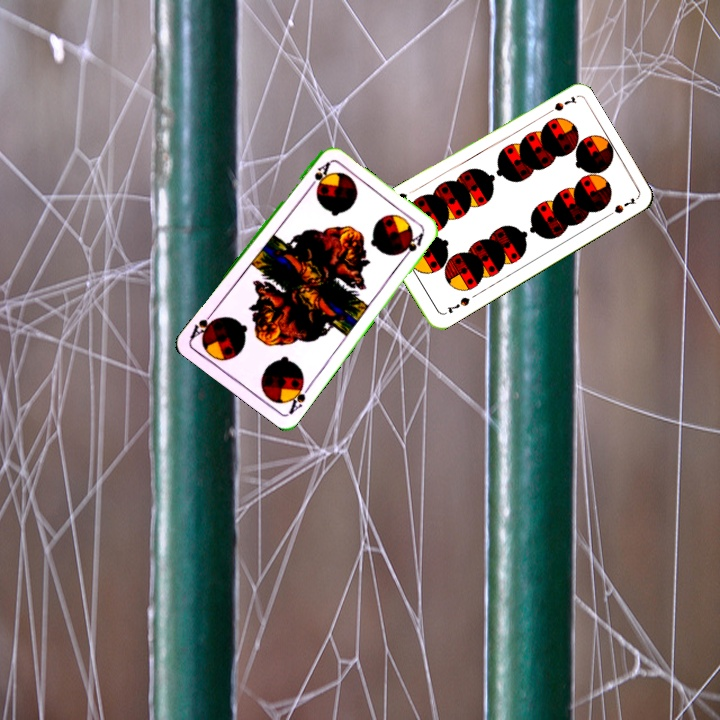S7: (540, 92, 578, 119), (443, 293, 472, 317)
SA: (283, 377, 314, 417), (303, 158, 333, 194)
